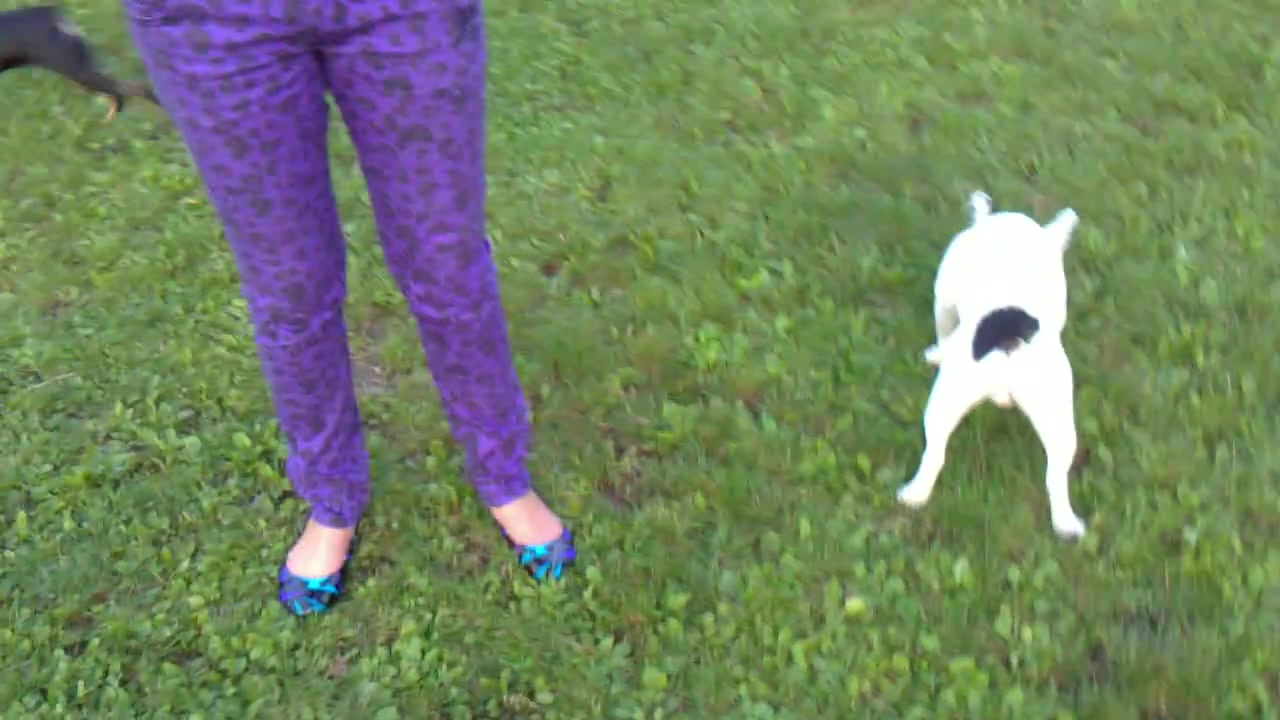dog: (894, 192, 1087, 544)
